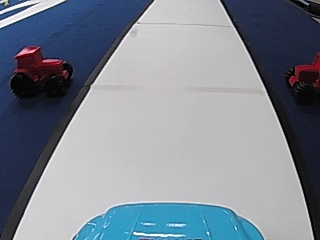tractor: (9, 43, 72, 98), (283, 49, 319, 105)
